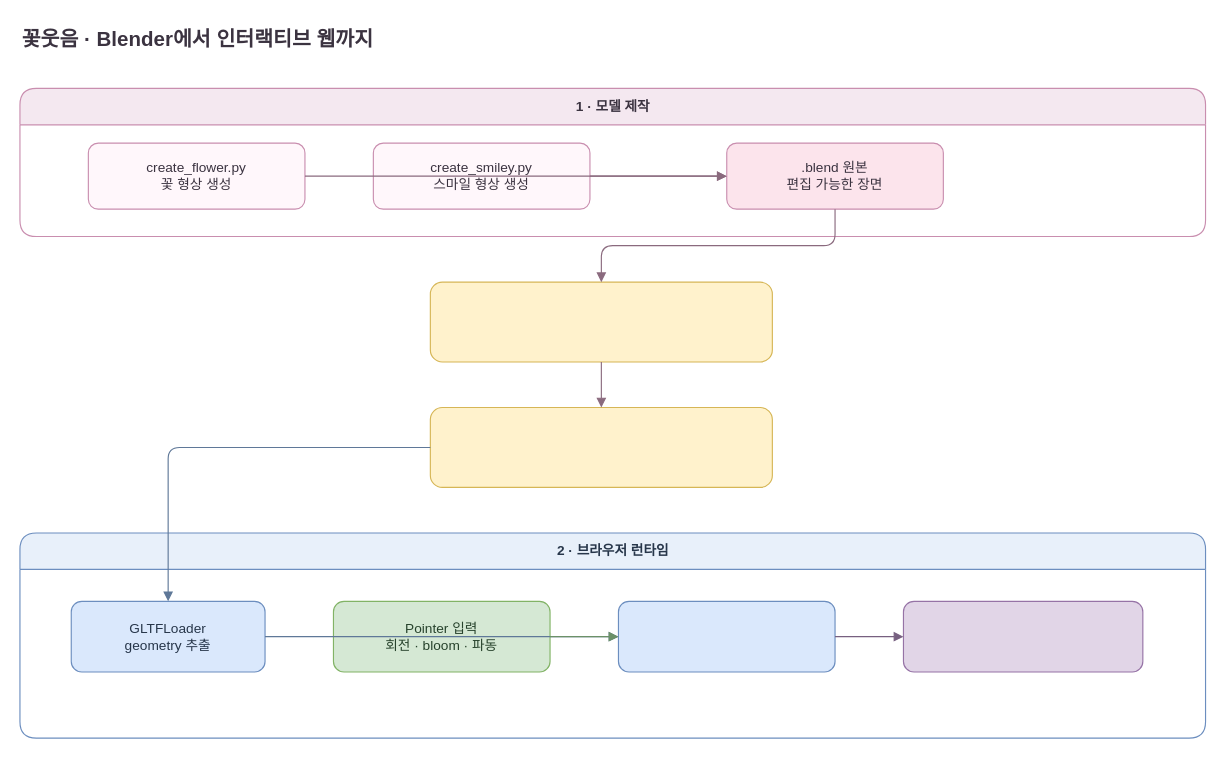
Image size: 1226x758. Some labels were removed from this diagram. Here are the shapes that lost their labels. From the top down, the centre of each, then its label:
At (600,321): "export_web_models.py 검증 · 경량화 · AO".
At (600,446): "flower-web.glb + smiley-web.glb 브라우저용 geometry".
At (726,636): "InstancedMesh 84개 matrix + color".
At (1022,636): "Physical material + 조명 WebGL canvas".
